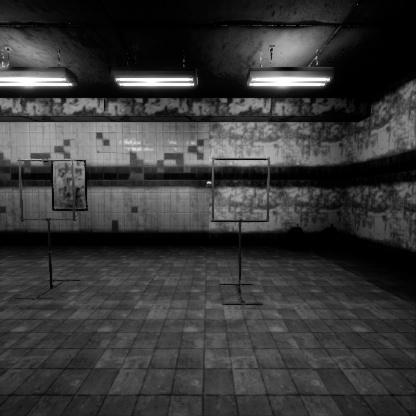gate: (212, 193, 275, 258), (18, 194, 80, 256)
